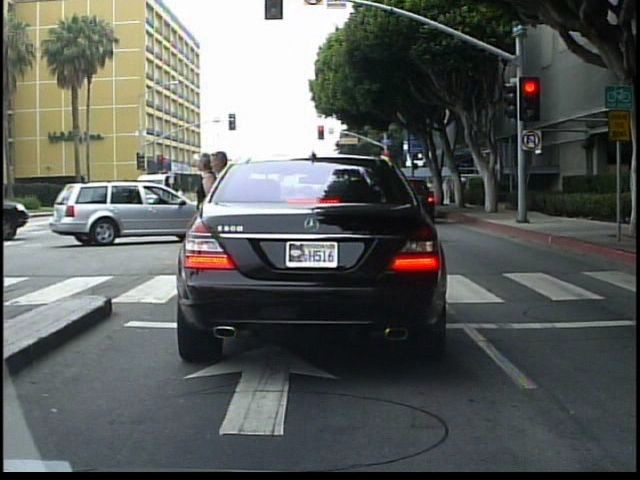person: (212, 148, 251, 285), (188, 145, 218, 285), (442, 176, 454, 207)
